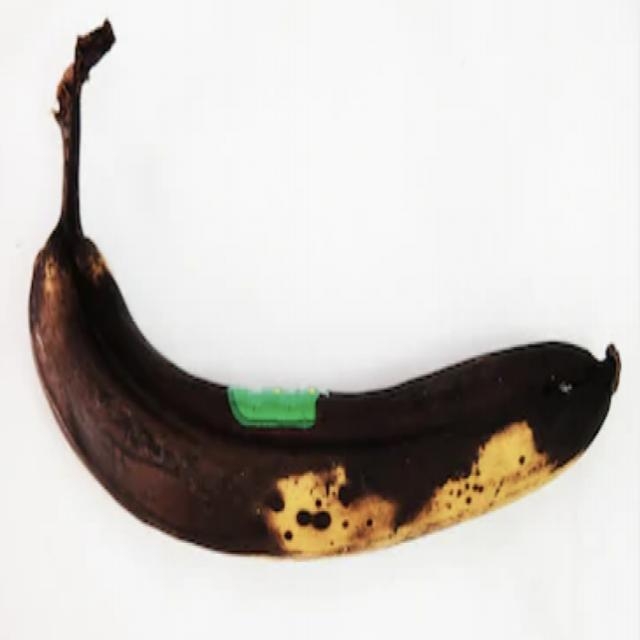rotten-banana: (28, 178, 615, 561)
